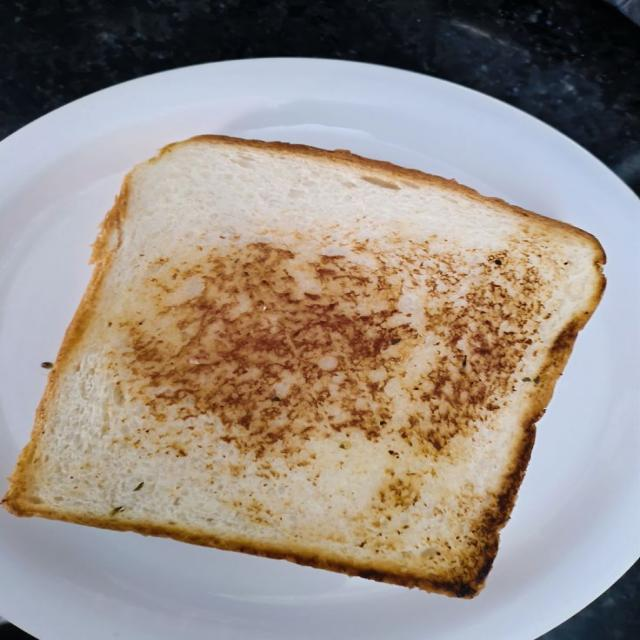toast bread: (4, 136, 603, 596)
